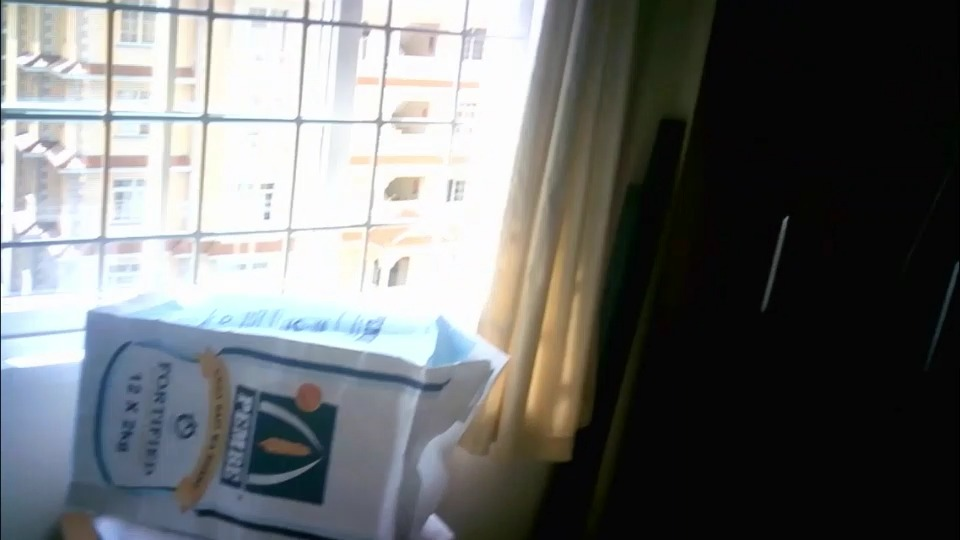wheat_flour_blue_label: (64, 296, 504, 537)
